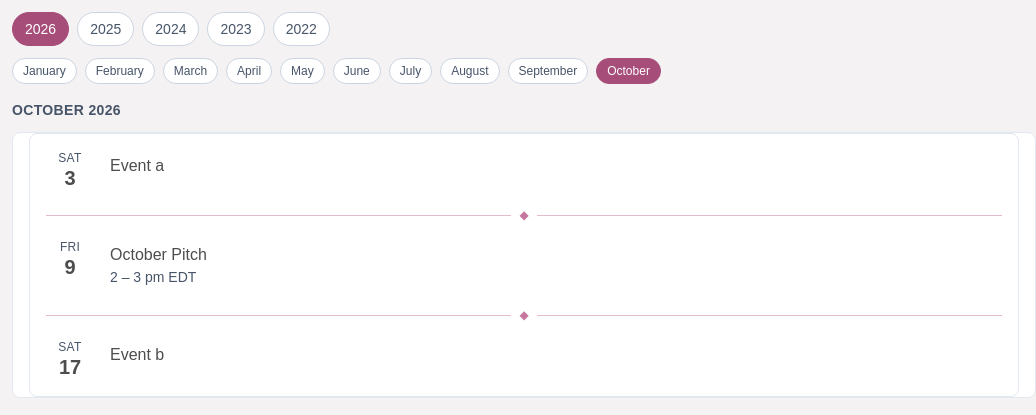
Test case: PastEventsBrowser › fetches the months either side of the open one ahead of time, so paging is instant
Click the button "September": {"x": 548, "y": 71} [508, 58, 588, 84]
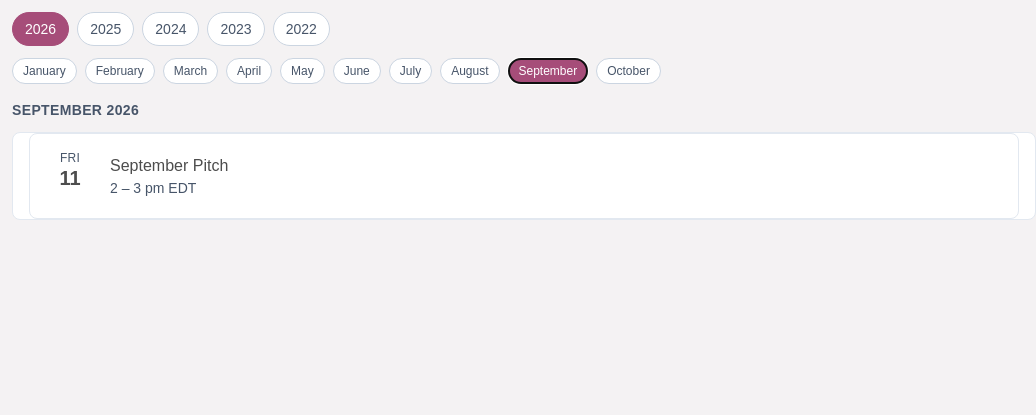
Now the link "September Pitch 2 – 3 pm EDT" is shown, box [110, 157, 228, 196]
